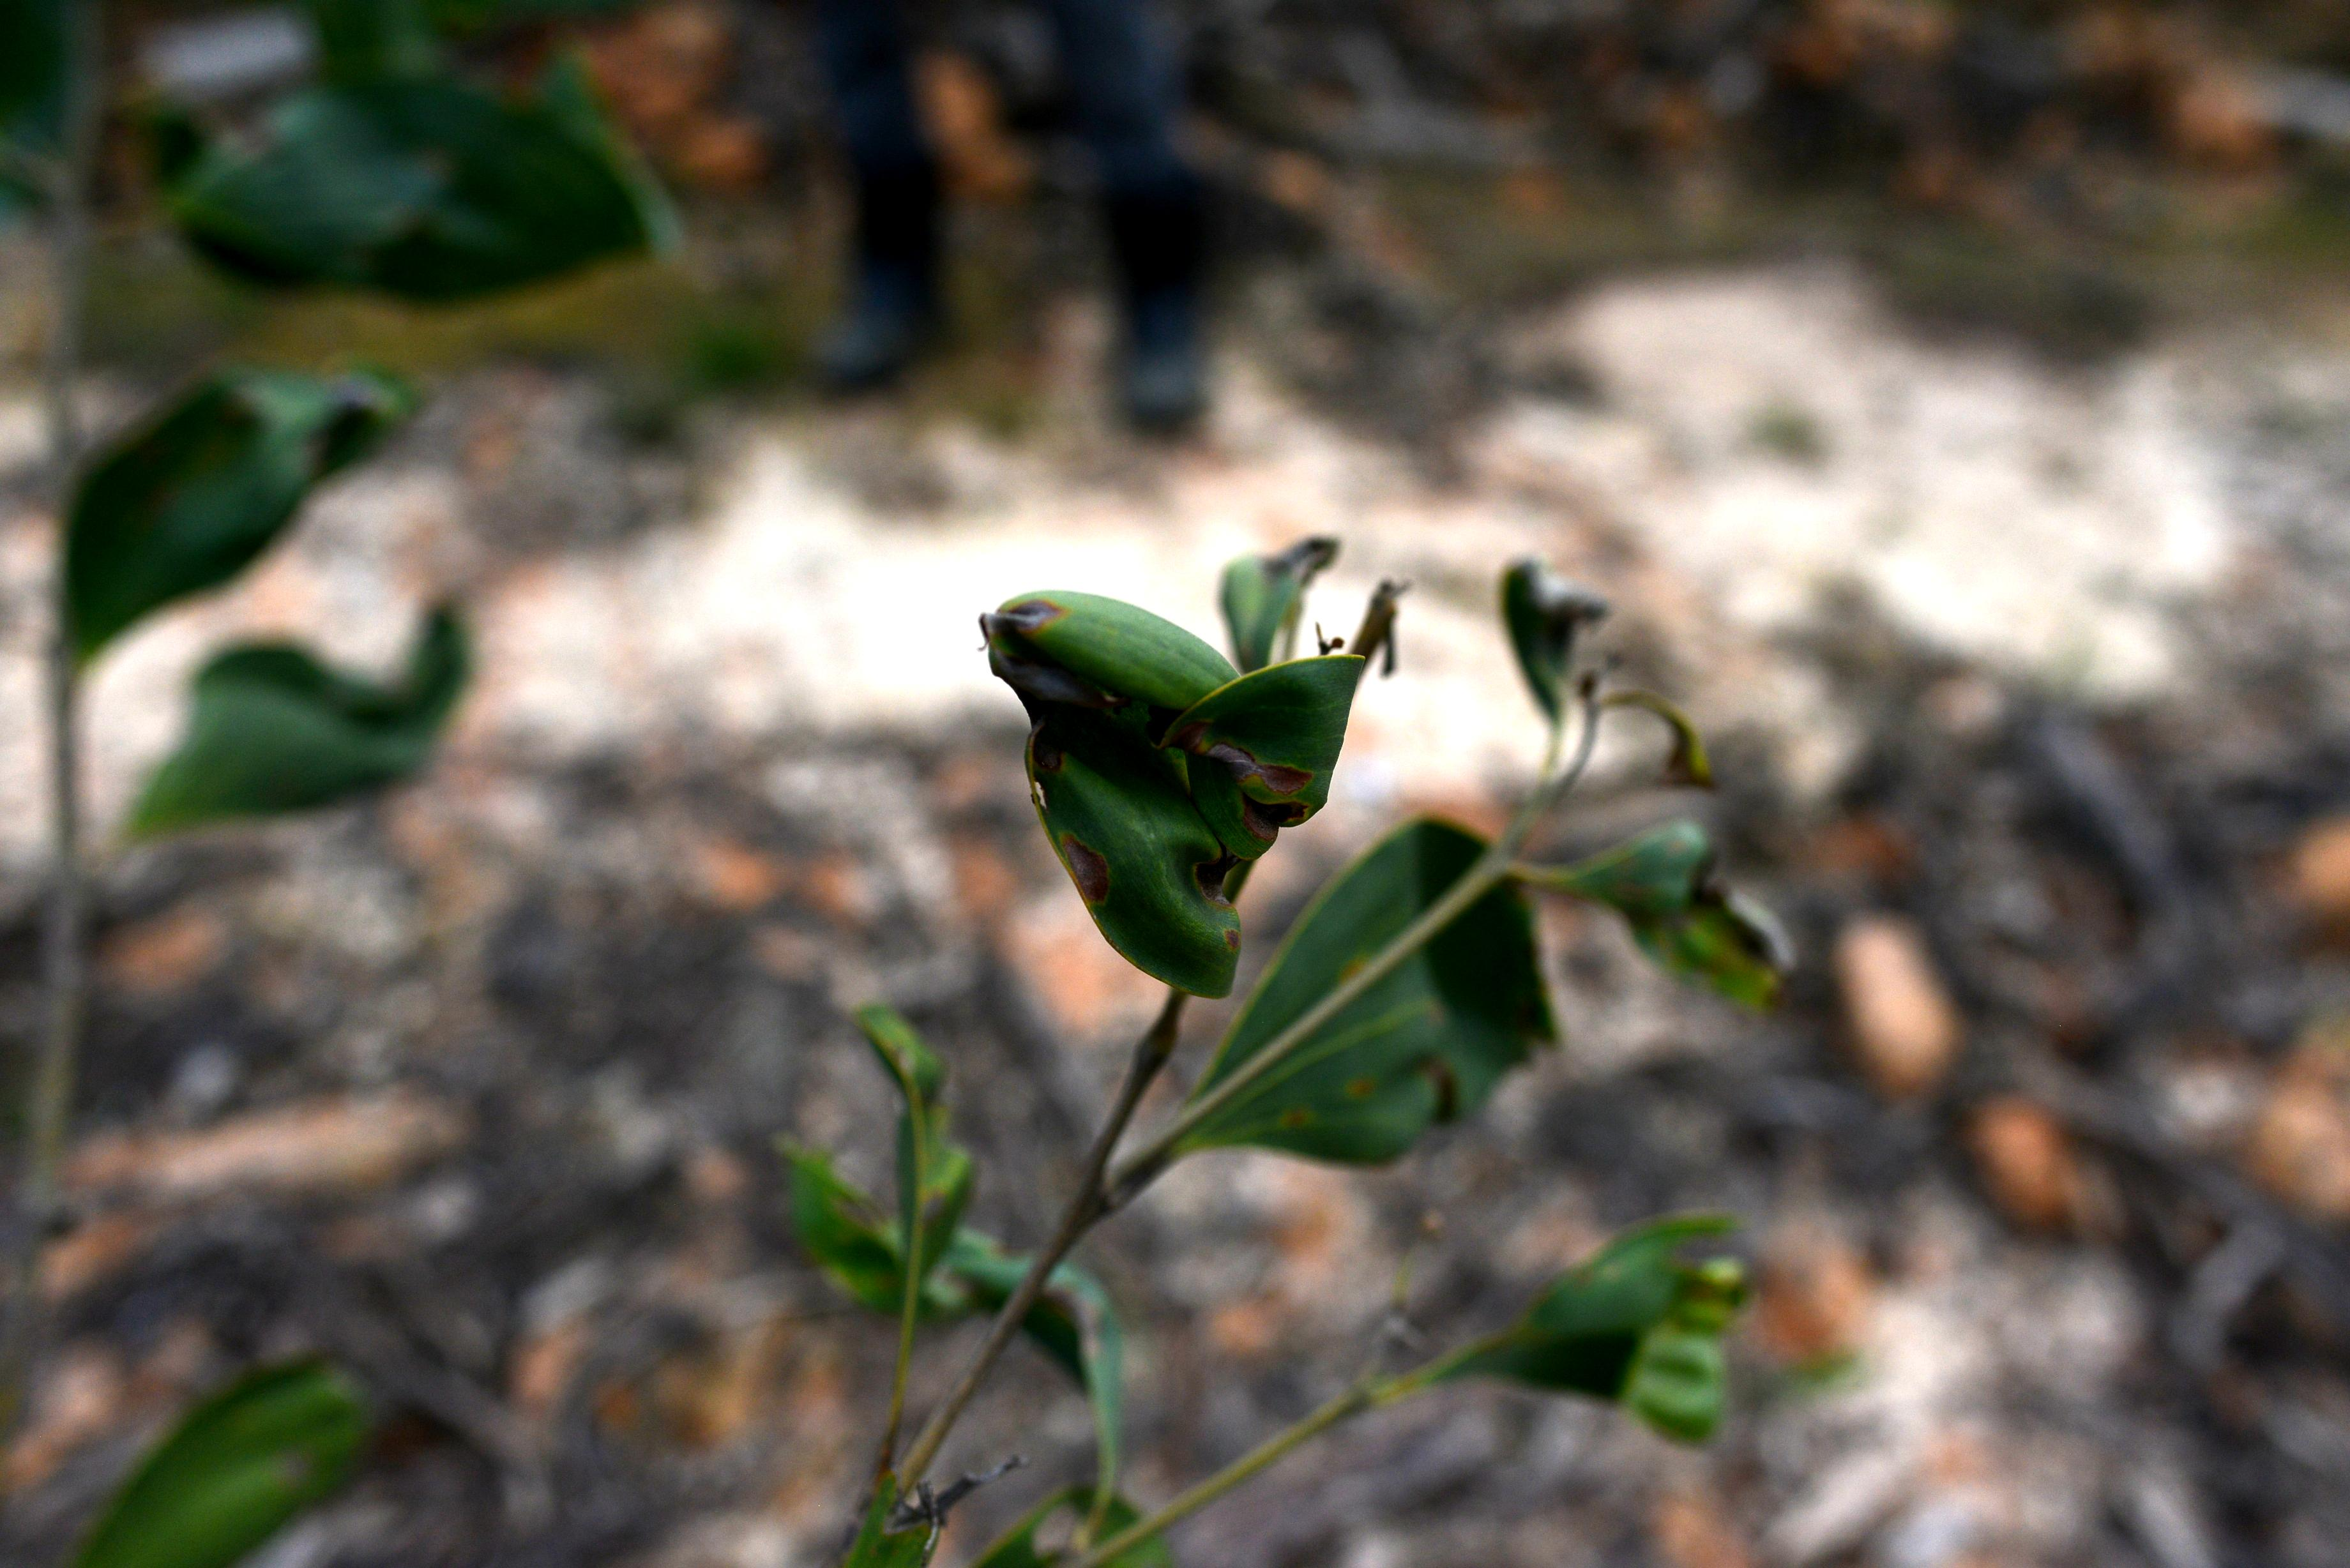Pasalora: (982, 530, 1398, 1001), (145, 77, 681, 310), (108, 597, 492, 857), (786, 999, 996, 1325), (1479, 1204, 1748, 1449), (1489, 556, 1710, 798), (1552, 826, 1783, 1018)
